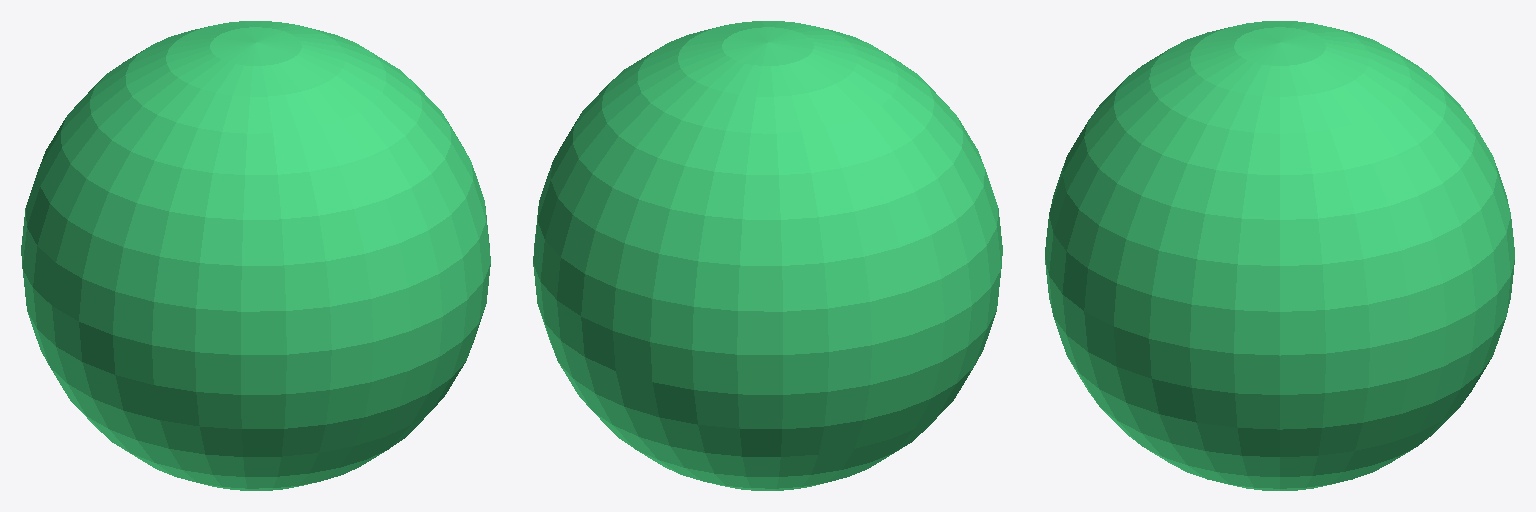
File: sky.obj
The picture shows the model from 3 angles: view 1: azimuth 30°, elevation 25°; view 2: azimuth 150°, elevation 25°; view 3: azimuth 270°, elevation 25°; orthographic projection.
Visible parts, largest first — view 1: Sphere001; view 2: Sphere001; view 3: Sphere001.
Part boxes in pixels (x1,y1,x2,y2): Sphere001: (21, 21, 490, 490); Sphere001: (533, 21, 1002, 490); Sphere001: (1045, 21, 1514, 490).
Bounding box in the file's own units: 1562 × 1562 × 1562.